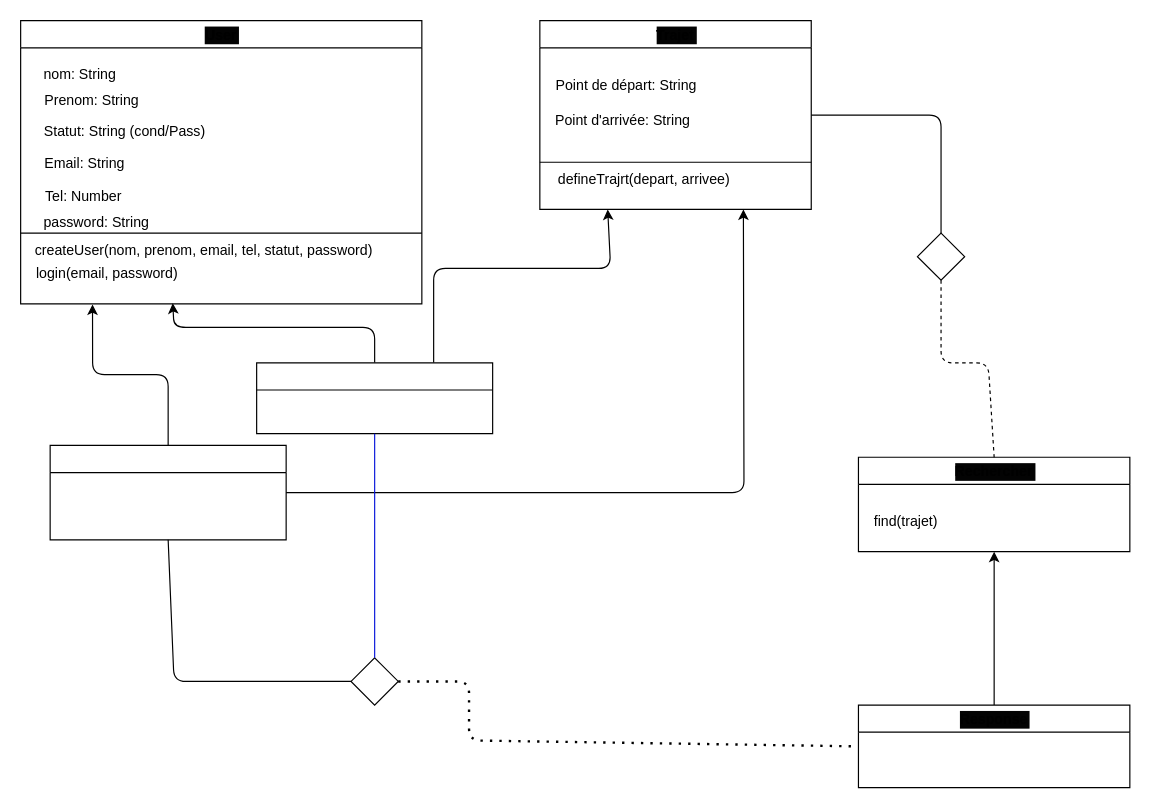
This 1151x808 diagram has some shape labels left out. The centre of each missing label's shape, as x and y in pixels:
Conducteur: [167,492]
Passager: [374,398]
